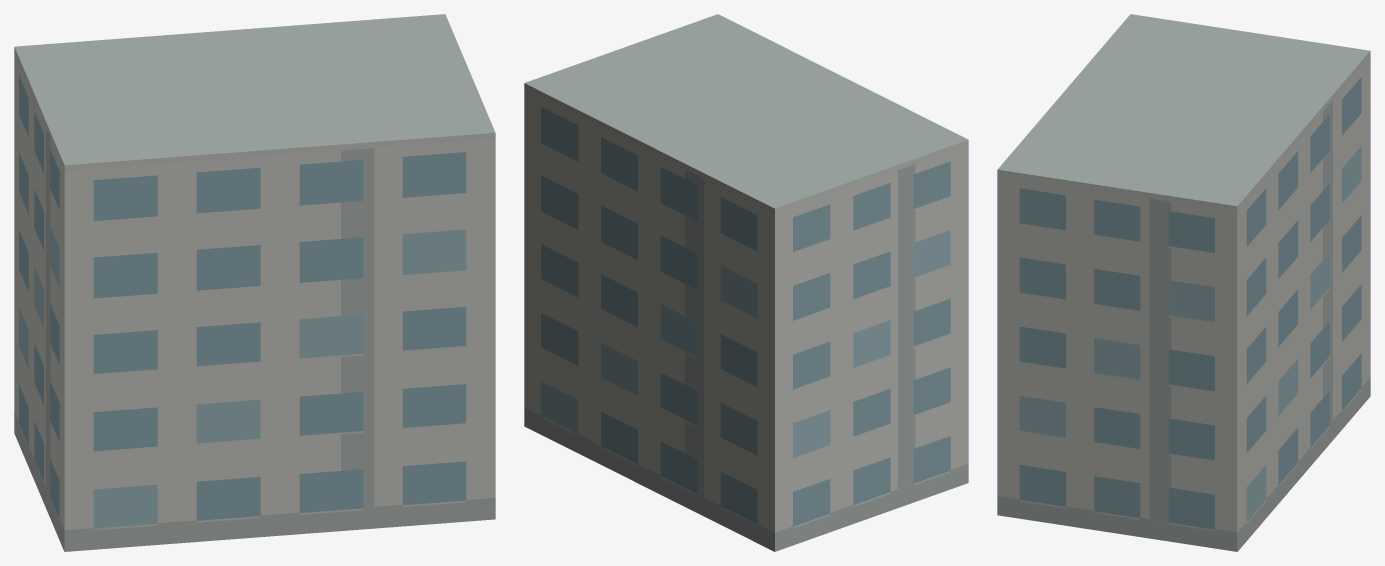
Rendered from residential-9a596a2a-e276-402b-adbd-2d4bb539dc09.glb.
3 renders of one model, left to right at view 1: azimuth 30°, elevation 25°; view 2: azimuth 150°, elevation 25°; view 3: azimuth 270°, elevation 25°, orthographic. The views are drawn at different scales.
Parts seen in each view (by area): view 1: residential-9a596a2a-e276-402b-adbd-2d4bb539dc09.tmp; view 2: residential-9a596a2a-e276-402b-adbd-2d4bb539dc09.tmp; view 3: residential-9a596a2a-e276-402b-adbd-2d4bb539dc09.tmp.
Boxes of the visible parts, box(x1,y1,x2,y2) form: residential-9a596a2a-e276-402b-adbd-2d4bb539dc09.tmp: box(14, 14, 495, 551); residential-9a596a2a-e276-402b-adbd-2d4bb539dc09.tmp: box(524, 14, 968, 551); residential-9a596a2a-e276-402b-adbd-2d4bb539dc09.tmp: box(997, 14, 1370, 551).
Bounding box in the file's own units: 18.2 × 15.25 × 14.93.
